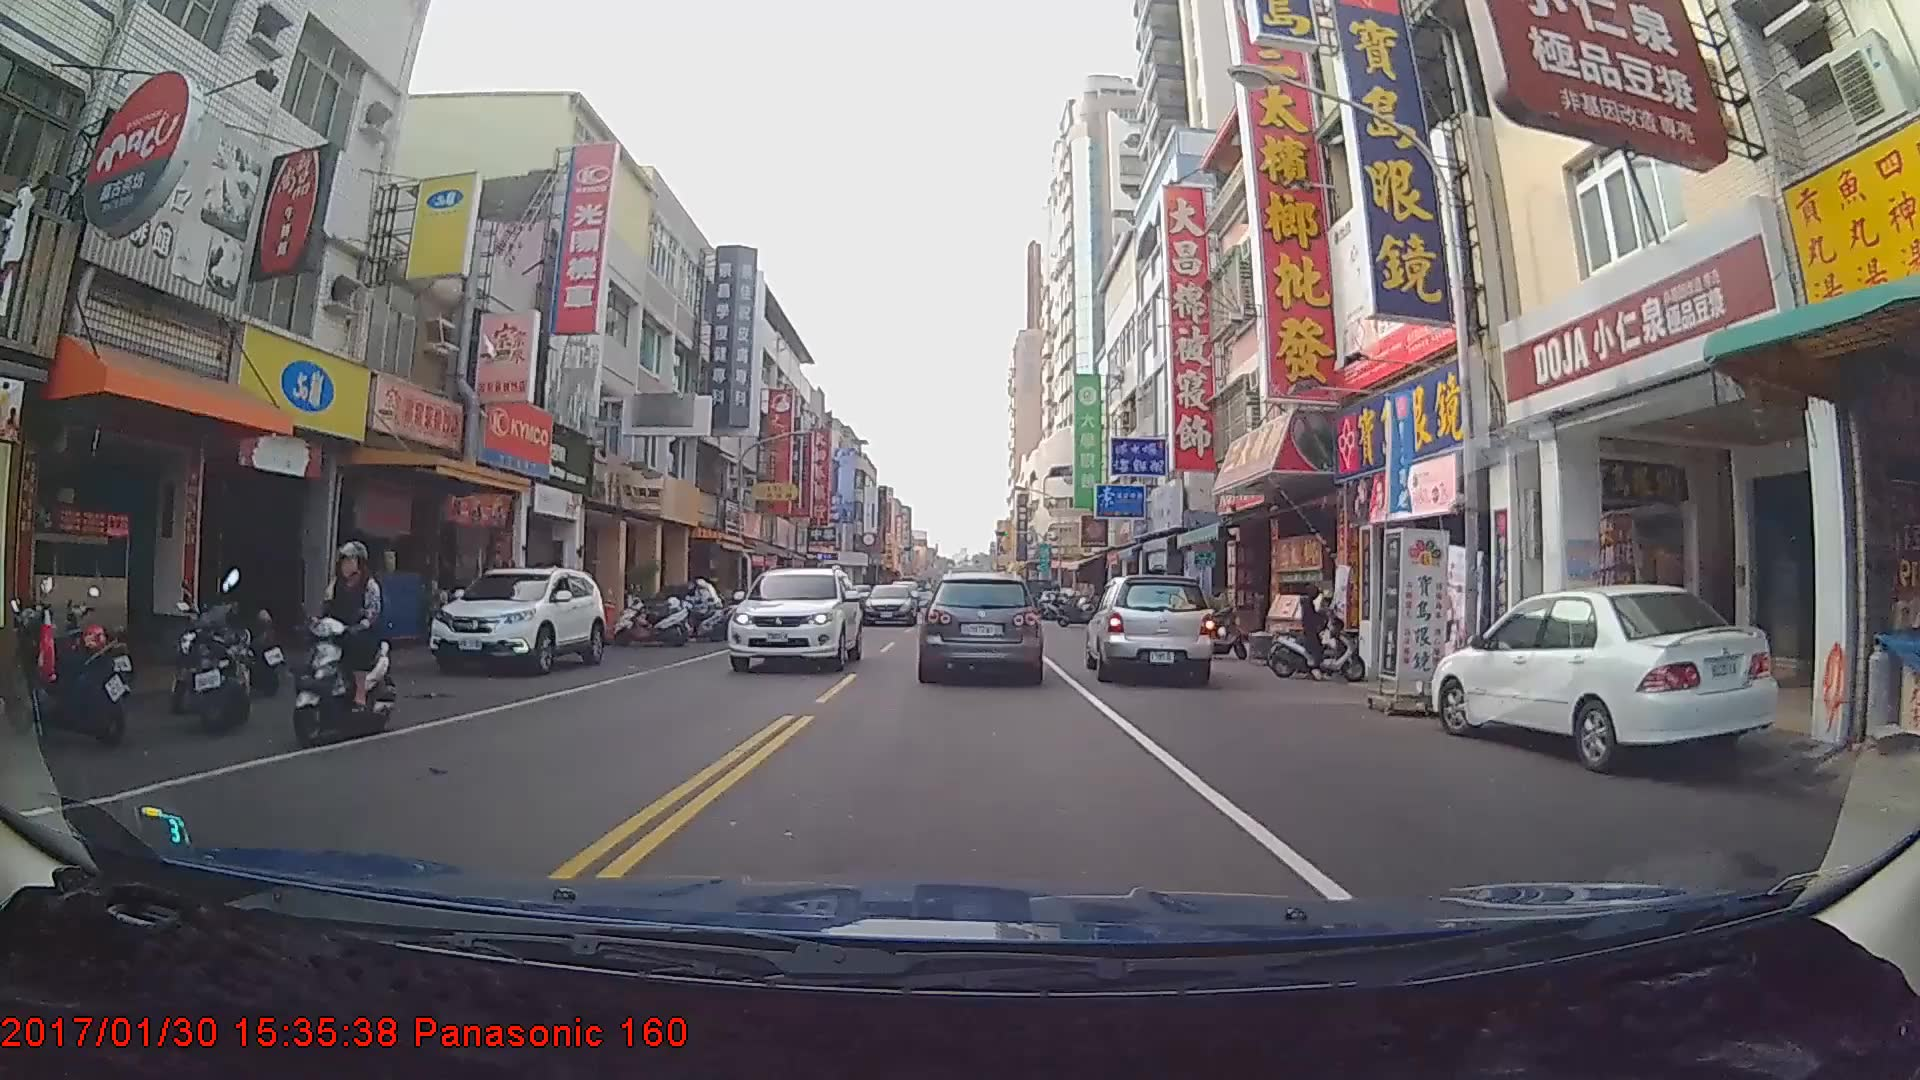rider: (288, 542, 398, 751), (1265, 577, 1372, 686)
vehicle: (1432, 586, 1782, 768), (426, 565, 605, 676), (1084, 572, 1213, 688), (729, 565, 861, 672), (922, 572, 1042, 682), (860, 583, 917, 627)
